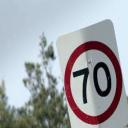speed_limit_70: (61, 39, 127, 126)
